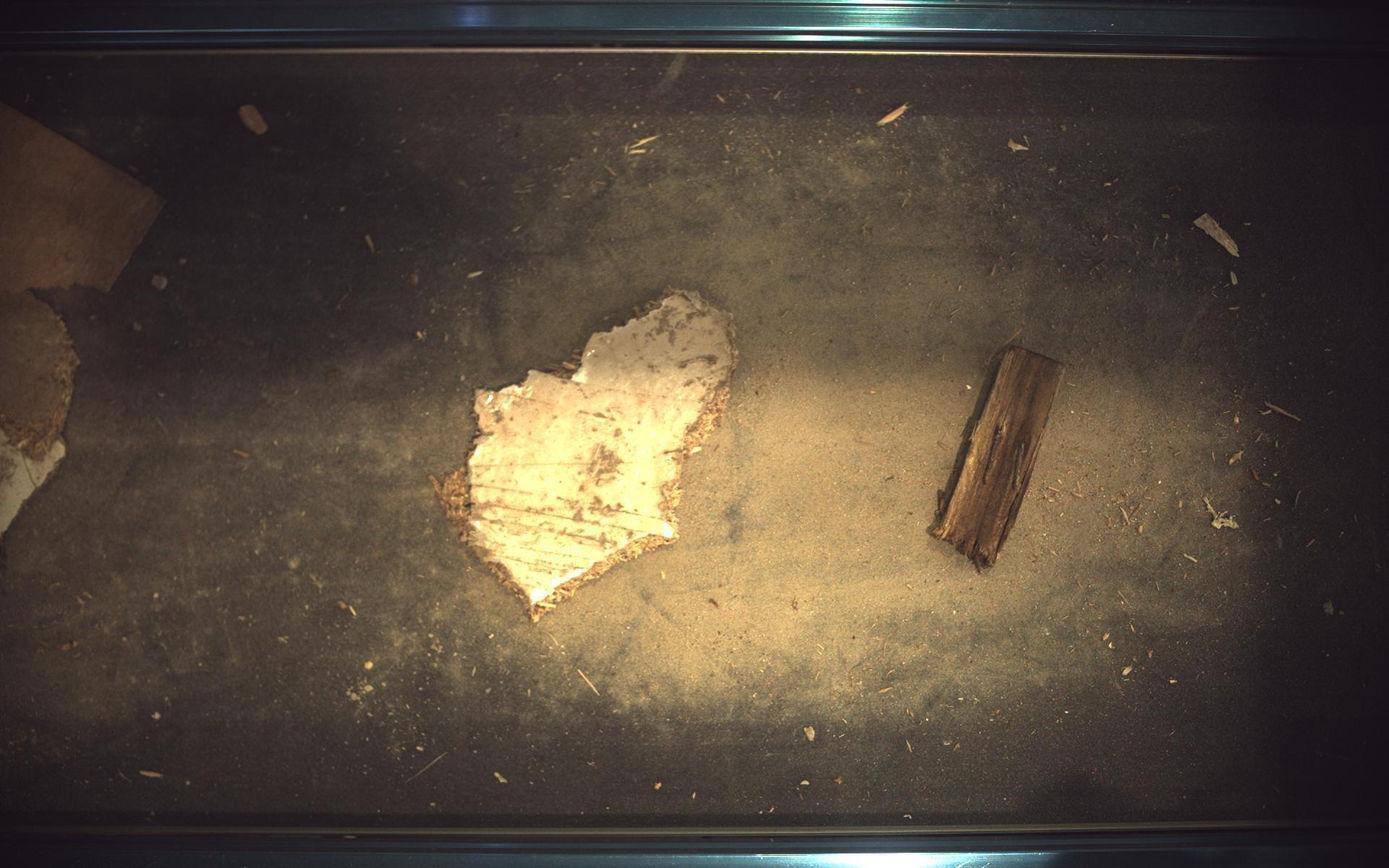wood: (434, 291, 738, 622), (1, 102, 163, 292), (935, 346, 1066, 571), (1, 290, 77, 534)
